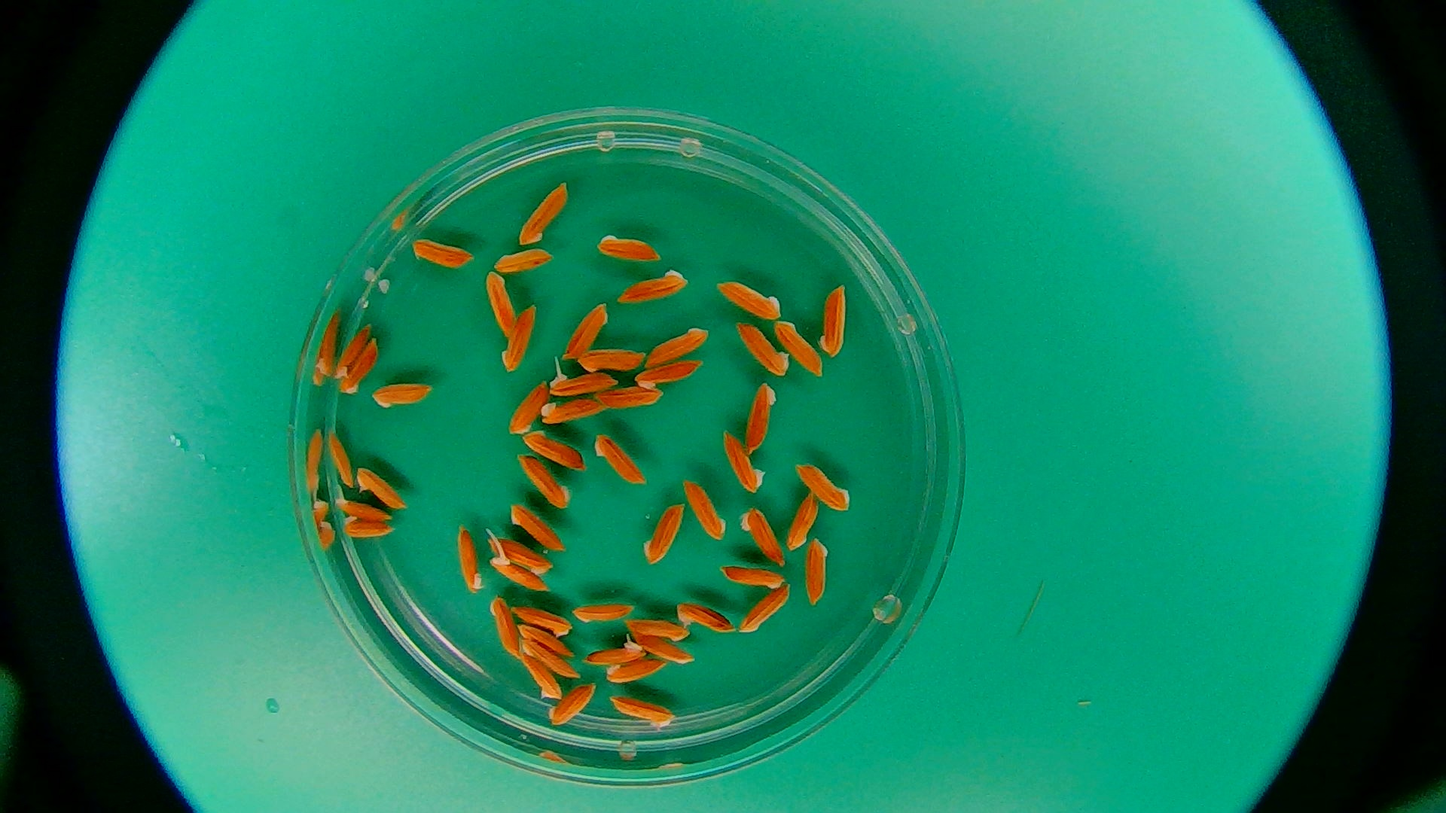no: (515, 175, 569, 246), (734, 322, 791, 379), (793, 460, 852, 515), (643, 322, 712, 368), (771, 318, 823, 379), (593, 429, 648, 486), (682, 477, 730, 542), (721, 429, 768, 495), (613, 266, 690, 306), (517, 452, 570, 510), (739, 503, 786, 568), (715, 276, 782, 321), (559, 303, 608, 364), (642, 502, 687, 567), (737, 582, 791, 636), (497, 301, 535, 375), (508, 504, 565, 553), (522, 428, 586, 471), (486, 536, 551, 578), (508, 600, 573, 641), (338, 336, 380, 399), (630, 626, 696, 666), (746, 379, 779, 457), (610, 693, 676, 732), (355, 464, 410, 510), (818, 278, 849, 359), (408, 234, 472, 273), (330, 322, 372, 381), (673, 598, 736, 637), (592, 228, 664, 262), (517, 651, 565, 702), (508, 379, 549, 437), (484, 270, 518, 338), (490, 594, 524, 662), (784, 489, 820, 551), (456, 524, 486, 596), (631, 359, 703, 389), (368, 379, 435, 411), (545, 682, 593, 726), (719, 561, 787, 590), (538, 396, 605, 425), (576, 347, 647, 374), (325, 426, 355, 489), (604, 657, 667, 687), (805, 534, 830, 608), (623, 616, 691, 643), (490, 247, 554, 275), (569, 602, 635, 624), (340, 516, 396, 539)
yes: (581, 633, 648, 667), (490, 559, 553, 594), (331, 489, 394, 521), (552, 367, 619, 397)
